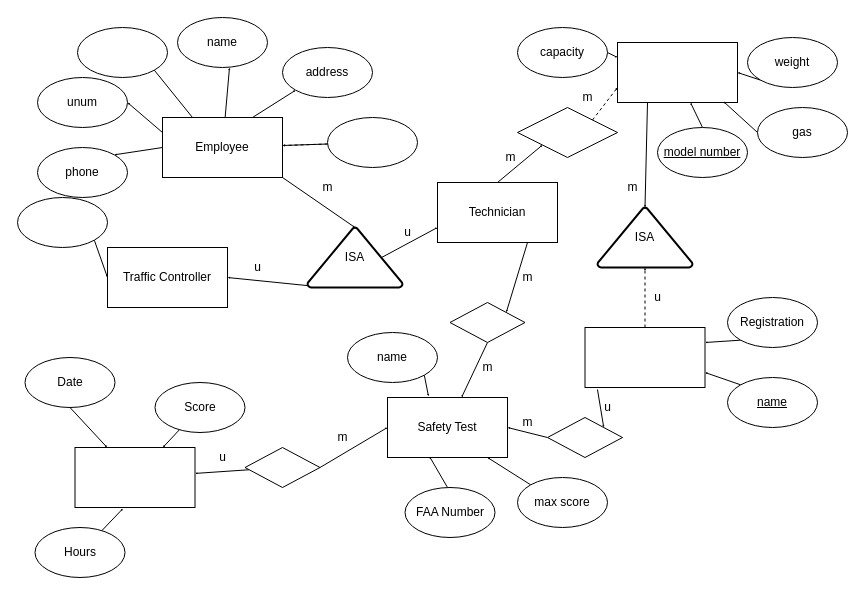
The diagram is 865 pixels wide and 595 high, and some of its shapes have lost their labels. The centre of each missing label's shape, as x and y in pixels:
Airplane: the point at 644,357
Date of Exam: the point at 62,222
Expert On: the point at 567,132
Model: the point at 677,72
performs: the point at 487,322
salary: the point at 372,142
ssn: the point at 122,52
Testing Event: the point at 134,477
Tests: the point at 584,437
Tracks: the point at 282,467
